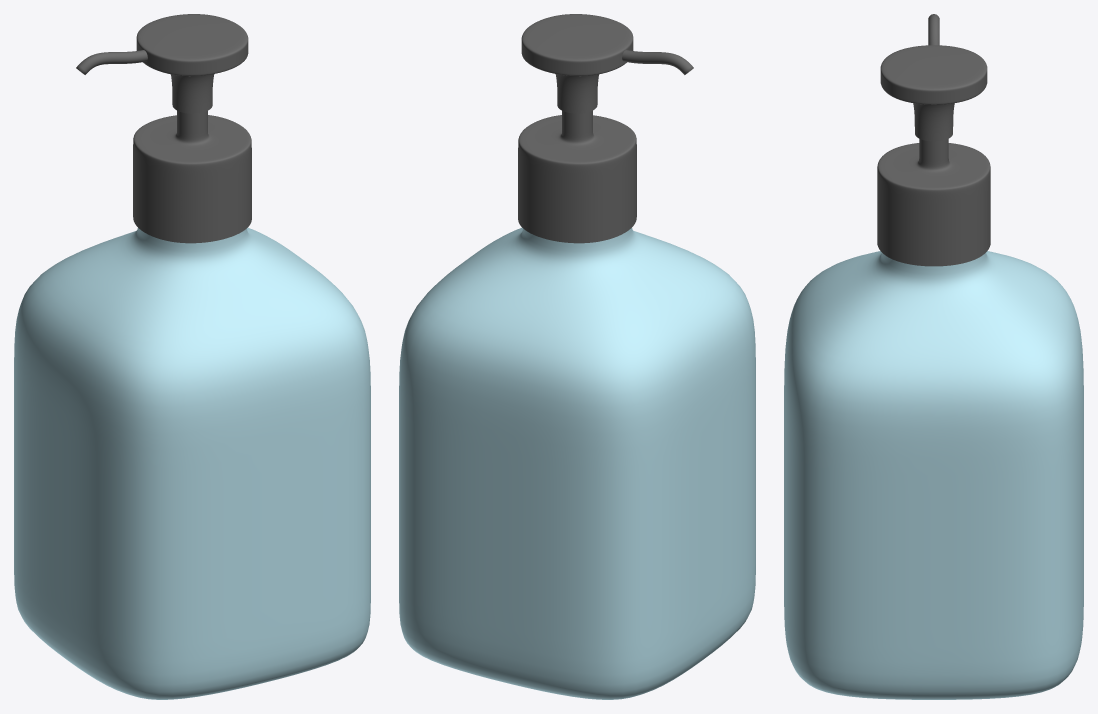
The model's file is porta_sapone.fbx.
3 renders of one model, left to right at view 1: azimuth 30°, elevation 25°; view 2: azimuth 150°, elevation 25°; view 3: azimuth 270°, elevation 25°, orthographic. The views are drawn at different scales.
Visible parts, largest first — view 1: porta_sapone; view 2: porta_sapone; view 3: porta_sapone.
Boxes of the visible parts, left/top/right/bottom form: porta_sapone: left=14, top=14, right=370, bottom=699; porta_sapone: left=399, top=14, right=755, bottom=699; porta_sapone: left=784, top=14, right=1083, bottom=699.
Size of the model in its own units: 9.51 by 20.49 by 9.51.
